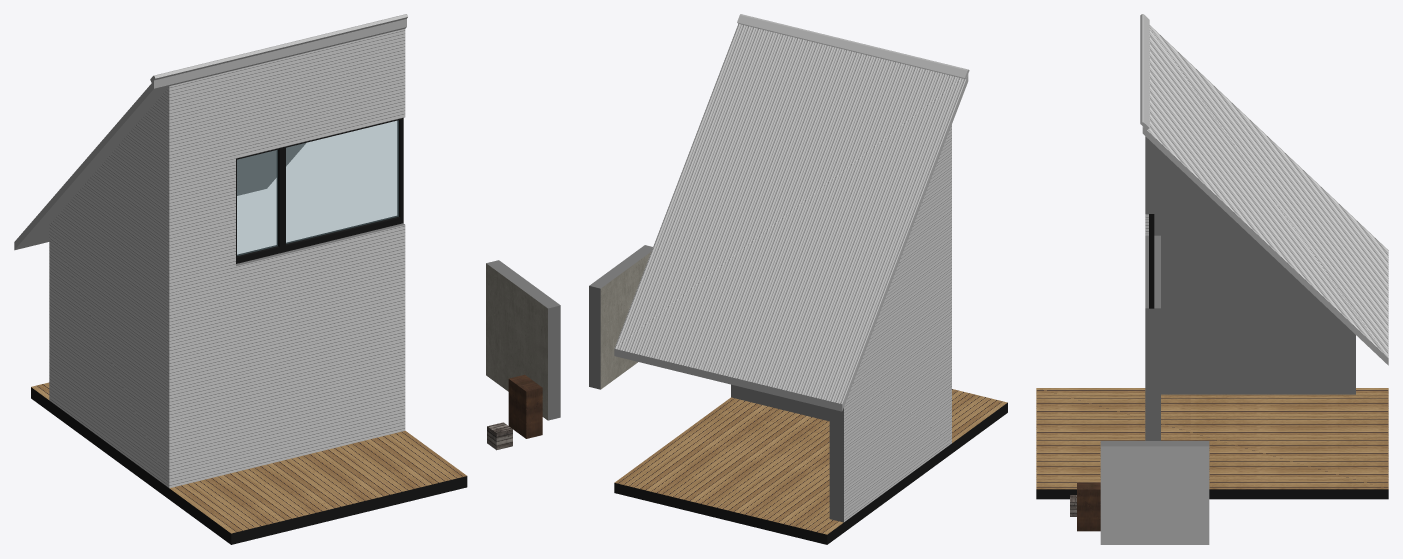
The model's file is CubeMur02.obj.
The picture shows the model from 3 angles, left to right: view 1: azimuth 30°, elevation 25°; view 2: azimuth 150°, elevation 25°; view 3: azimuth 270°, elevation 25°; orthographic projection. The views are drawn at different scales.
Parts seen in each view (by area): view 1: UNITY_Bois_Blanc_Horizontal_Existant_2, Aluminex_Glass, UNITY_Plafond_Planche_Cedre_Partie_Angle, UNITY_Aluminex_Frame, UNITY_Gris, UNITY_Beton, Mur_par_défaut, UNITY_Teak, UNITY_Crete; view 2: UNITY_Taule_4"_90deg, UNITY_Bois_Blanc_Horizontal_Existant_2, UNITY_Plafond_Planche_Cedre_Partie_Angle, UNITY_Aluminex_Frame, Mur_par_défaut, UNITY_Beton, UNITY_Gris, UNITY_Crete, UNITY_Gypsum_Wall_Board; view 3: UNITY_Gypsum_Wall_Board, UNITY_Plafond_Planche_Cedre_Partie_Angle, UNITY_Taule_4"_90deg, UNITY_Brique, Mur_par_défaut, UNITY_Aluminex_Frame, UNITY_Gris, UNITY_Teak, UNITY_Crete.
Part boxes in pixels (bbox=[...]): UNITY_Bois_Blanc_Horizontal_Existant_2: bbox=[49, 29, 405, 488]; Aluminex_Glass: bbox=[237, 120, 398, 255]; UNITY_Plafond_Planche_Cedre_Partie_Angle: bbox=[31, 382, 466, 533]; UNITY_Aluminex_Frame: bbox=[31, 118, 467, 544]; UNITY_Gris: bbox=[14, 19, 406, 250]; UNITY_Beton: bbox=[486, 263, 547, 420]; Mur_par_défaut: bbox=[486, 260, 560, 420]; UNITY_Teak: bbox=[508, 374, 542, 438]; UNITY_Crete: bbox=[150, 14, 407, 82]; UNITY_Taule_4"_90deg: bbox=[614, 24, 965, 403]; UNITY_Bois_Blanc_Horizontal_Existant_2: bbox=[844, 125, 951, 521]; UNITY_Plafond_Planche_Cedre_Partie_Angle: bbox=[614, 389, 1007, 534]; UNITY_Aluminex_Frame: bbox=[614, 402, 1007, 544]; Mur_par_défaut: bbox=[589, 245, 843, 522]; UNITY_Beton: bbox=[600, 252, 650, 389]; UNITY_Gris: bbox=[614, 74, 968, 411]; UNITY_Crete: bbox=[737, 14, 969, 79]; UNITY_Gypsum_Wall_Board: bbox=[731, 384, 829, 421]; UNITY_Gypsum_Wall_Board: bbox=[1145, 151, 1355, 394]; UNITY_Plafond_Planche_Cedre_Partie_Angle: bbox=[1036, 388, 1388, 489]; UNITY_Taule_4"_90deg: bbox=[1143, 25, 1388, 358]; UNITY_Brique: bbox=[1100, 446, 1209, 544]; Mur_par_défaut: bbox=[1100, 136, 1209, 446]; UNITY_Aluminex_Frame: bbox=[1036, 214, 1388, 499]; UNITY_Gris: bbox=[1142, 127, 1388, 365]; UNITY_Teak: bbox=[1077, 482, 1100, 531]; UNITY_Crete: bbox=[1140, 14, 1149, 129].
Size of the model in its own units: 23.44 by 25.09 by 21.25.
